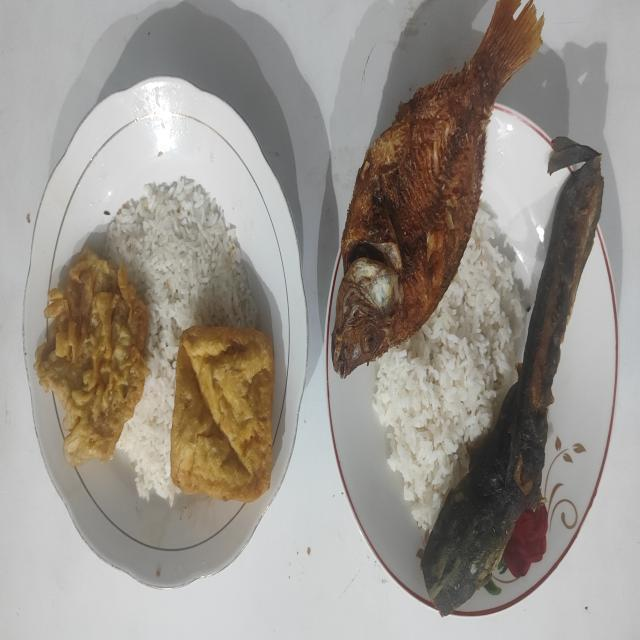ikan_mujair: (332, 0, 544, 378)
nasi_putih: (372, 209, 530, 531), (106, 177, 258, 506)
tahu_goreng: (170, 326, 274, 502)
